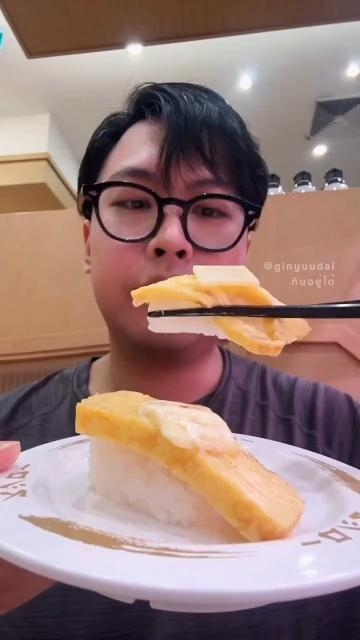janwhite: (20, 532, 360, 617), (28, 445, 92, 533)
